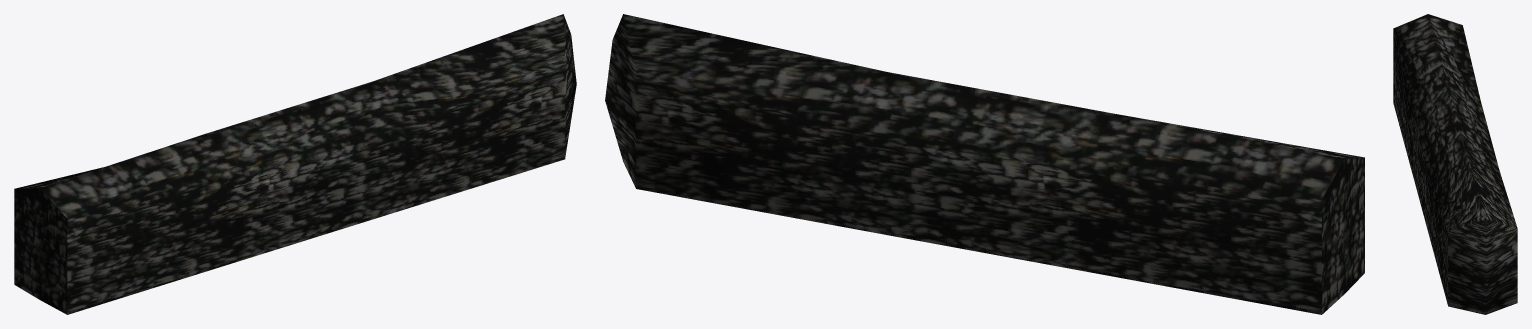
Rendered from INST_SM_BURNTWOODB.fbx.
3 renders of one model, left to right at view 1: azimuth 30°, elevation 25°; view 2: azimuth 150°, elevation 25°; view 3: azimuth 270°, elevation 25°, orthographic. The views are drawn at different scales.
Parts seen in each view (by area): view 1: INST_SM_BURNTWOODB; view 2: INST_SM_BURNTWOODB; view 3: INST_SM_BURNTWOODB.
Boxes of the visible parts, x1,y1,x2,y2 form: INST_SM_BURNTWOODB: [14, 14, 576, 314]; INST_SM_BURNTWOODB: [605, 14, 1364, 314]; INST_SM_BURNTWOODB: [1393, 14, 1517, 314].
Bounding box in the file's own units: 112539 × 22757 × 26791.
1 material, 1 textured.
